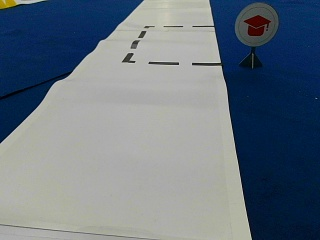school: (234, 3, 278, 46)
